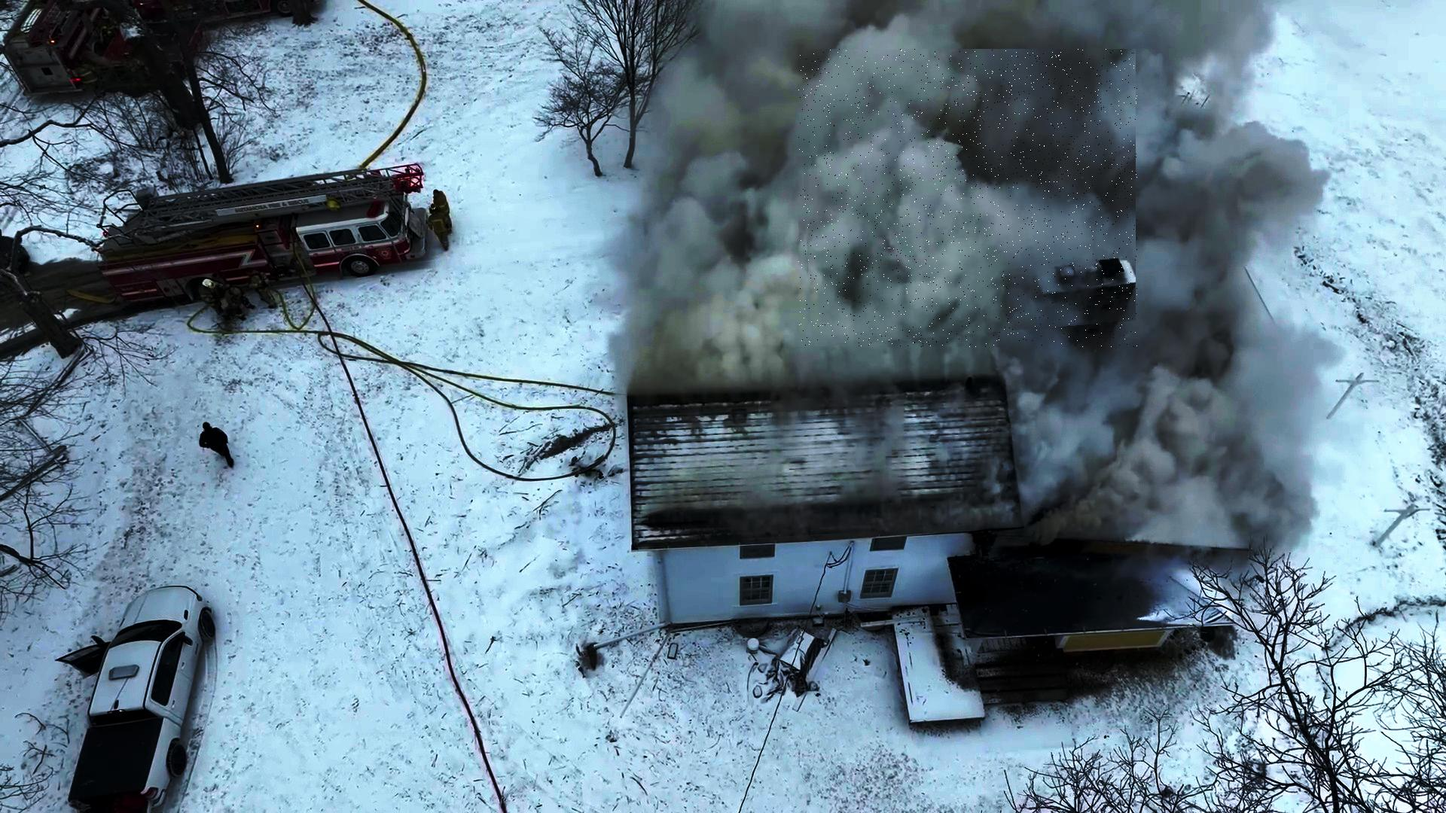smoke: (799, 49, 1138, 347)
